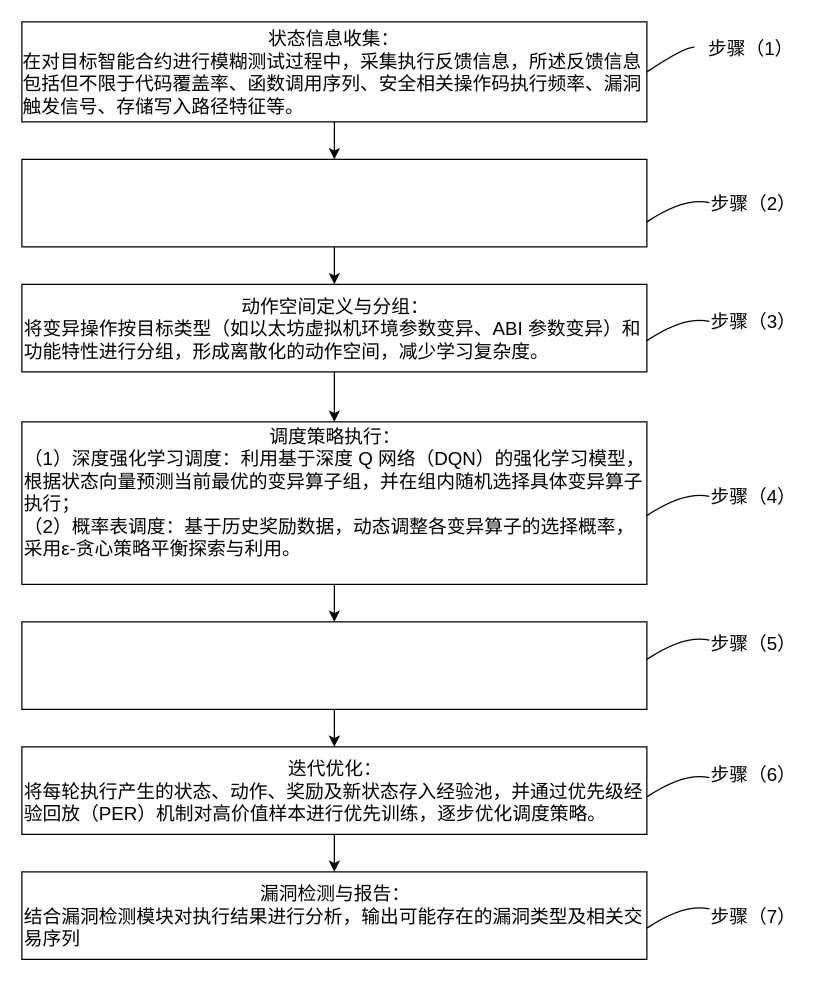
The diagram is 831 pixels wide and 981 high, and some of its shapes have lost their labels. The centre of each missing label's shape, as x and y in pixels:
奖励机制设计： 对触发漏洞、提升覆盖率、命中特定关键操作码、发现新的数据路径或比较路径的变异操作给予正向奖励，以引导调度器优先选择高价值的变异算子。: (x=334, y=665)
状态表示构建： 将上述执行反馈进行特征编码，形成包含静态语义特征与动态运行特征的状态向量，作为深度强化学习调度器（MutScheduler）的输入。: (x=334, y=202)
